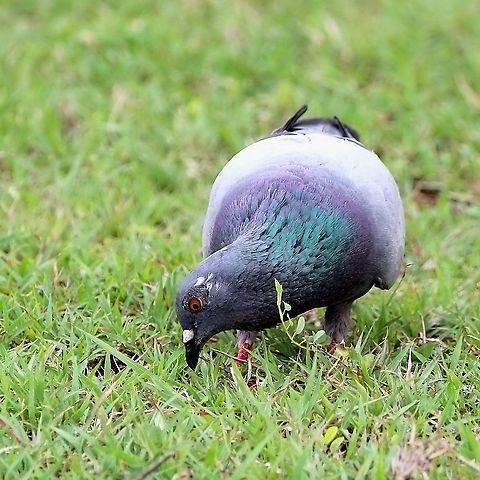Flying Rat: (164, 115, 415, 375)
